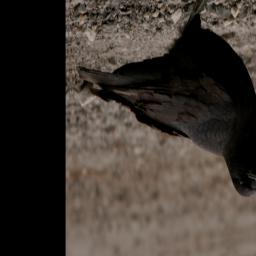Crow: (72, 0, 256, 226)
